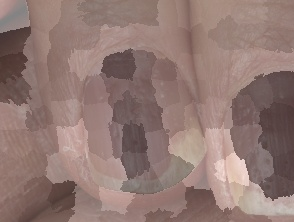Nail_psoriasis: (20, 0, 255, 222), (209, 22, 294, 222)
